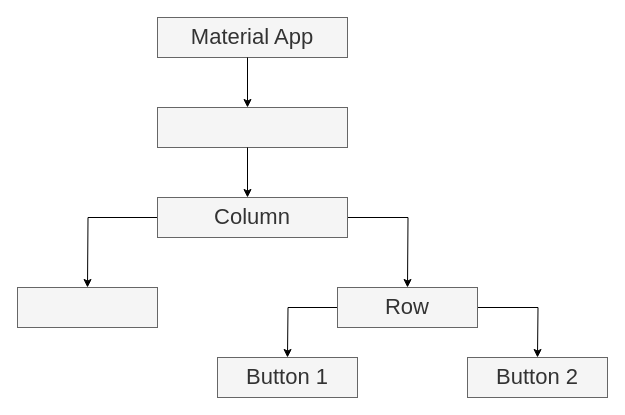
Image size: 625x415. Some labels were removed from this diagram. Each missing label, with the centre of its shape:
"Logo" belongs at [87,307].
"Scaffold" belongs at [252,127].
